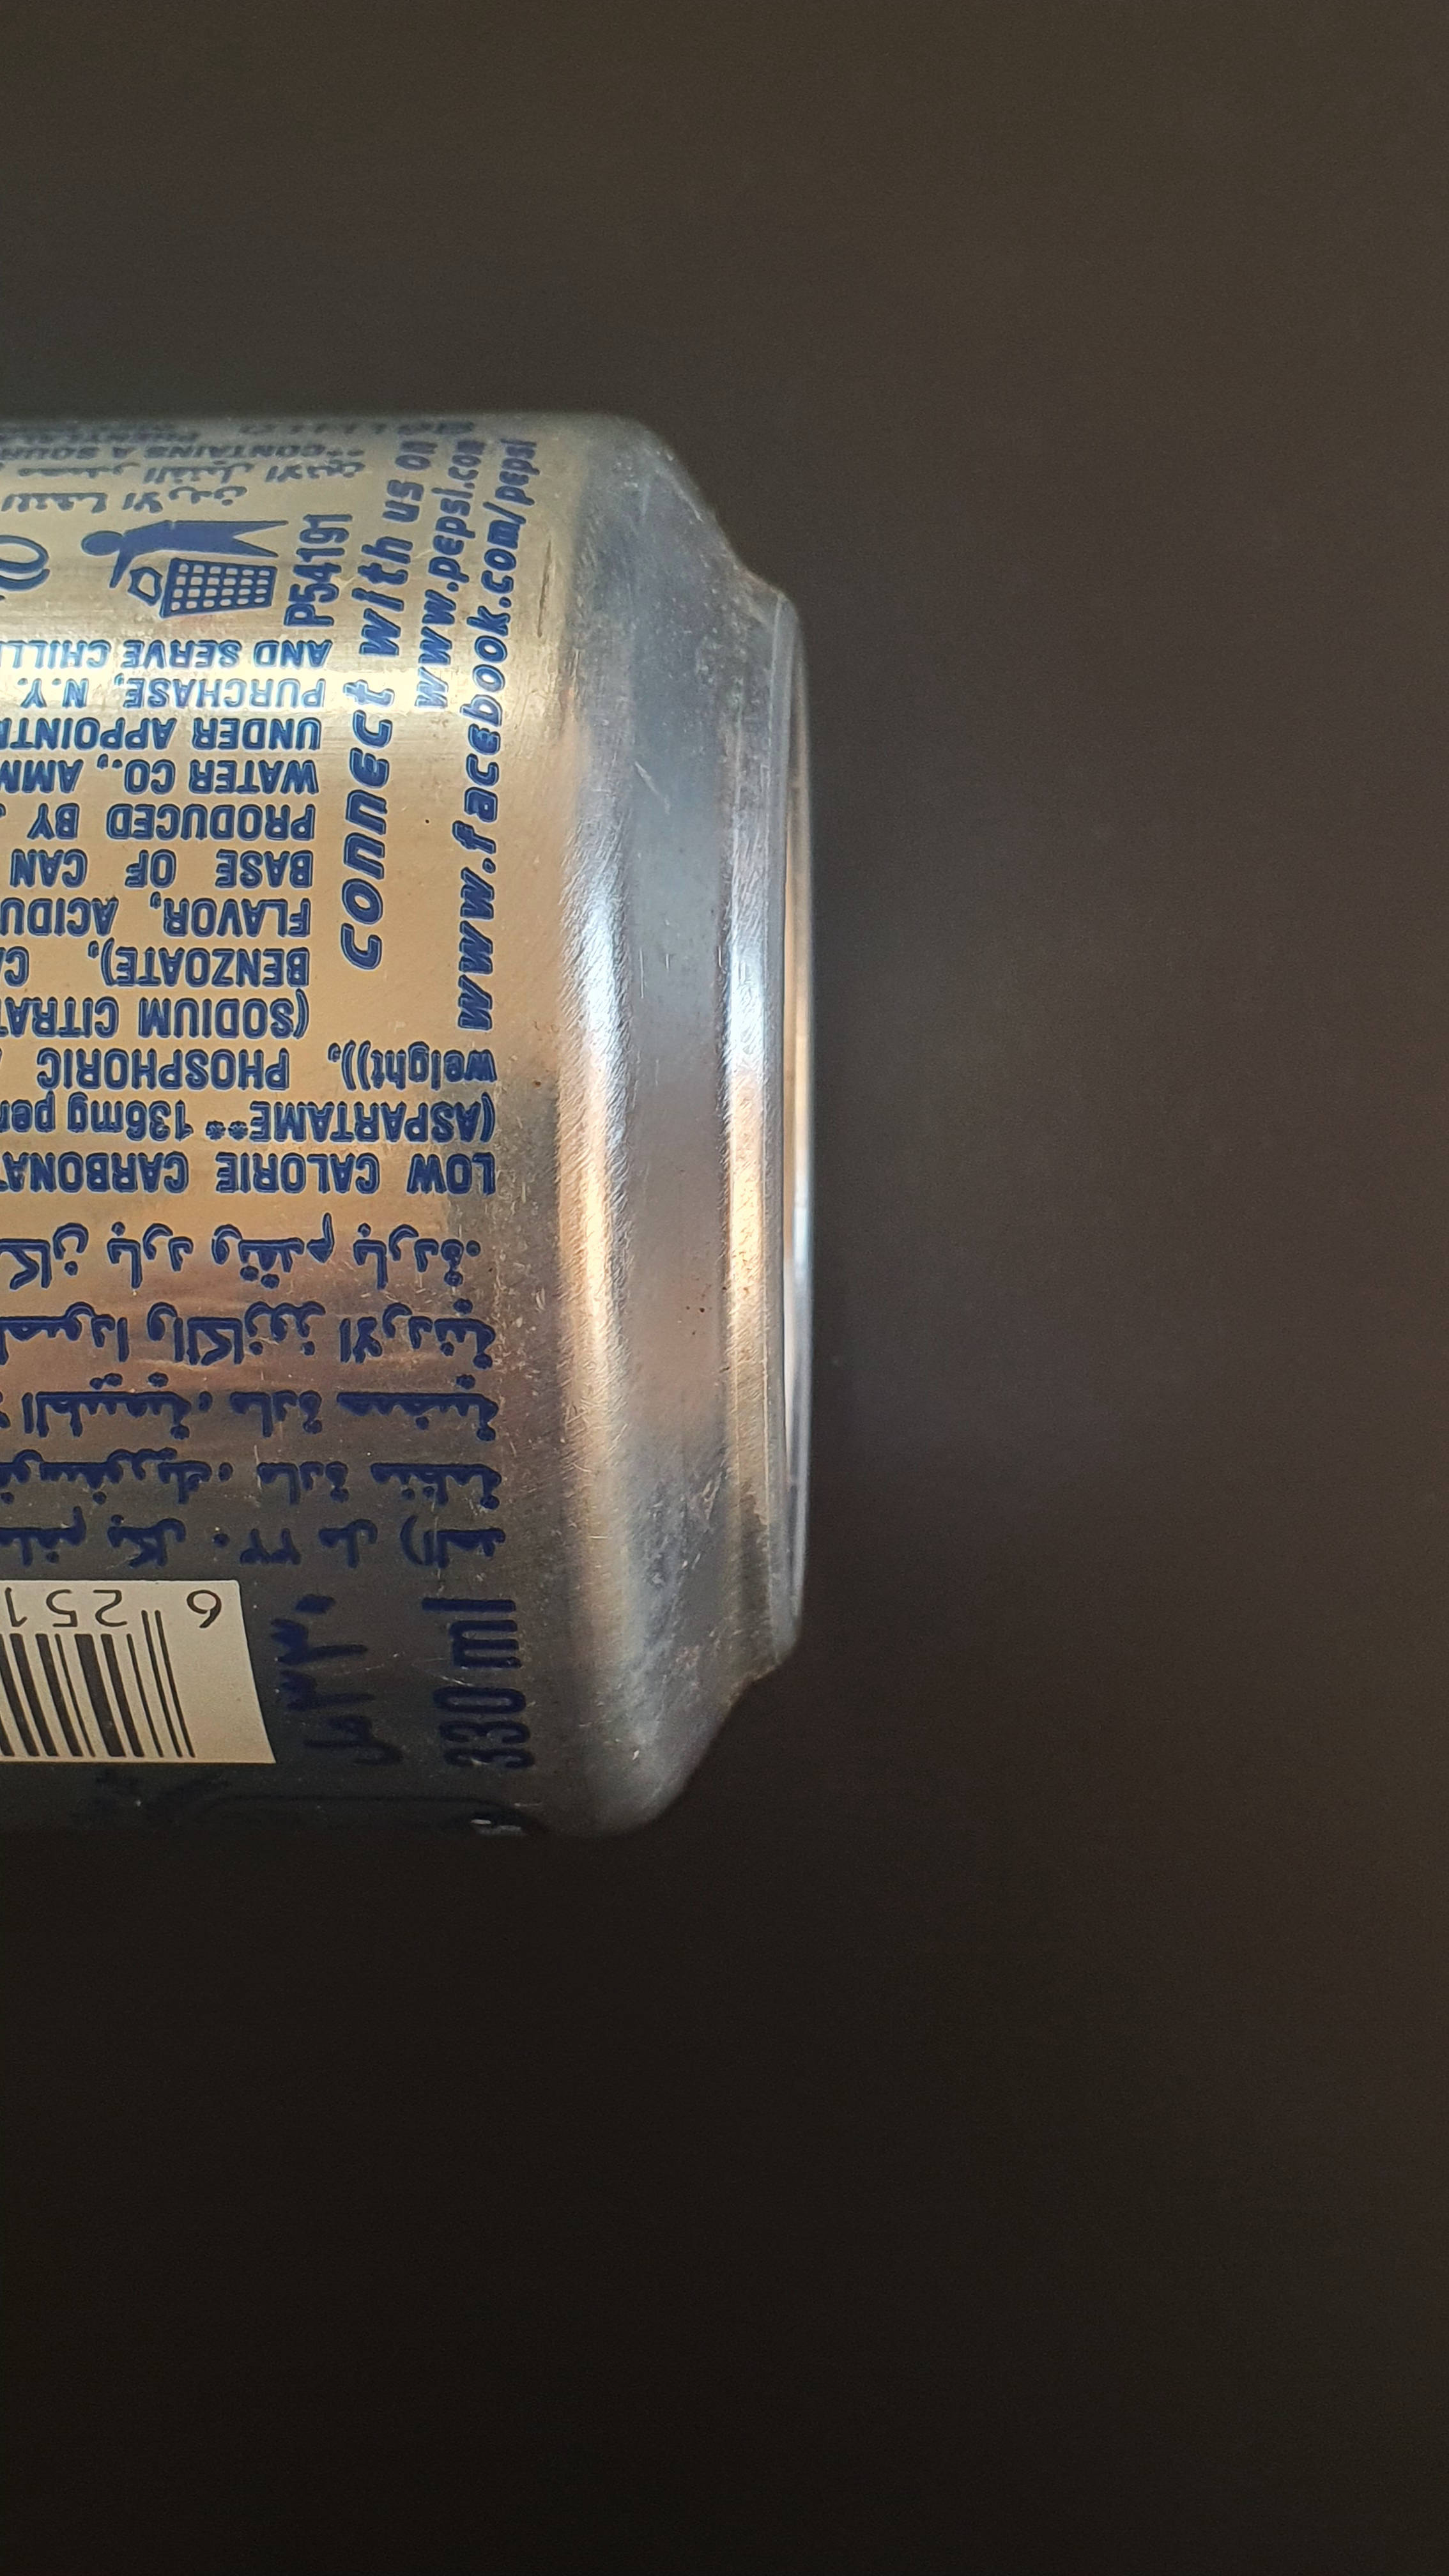metal: (5, 322, 851, 1969)
